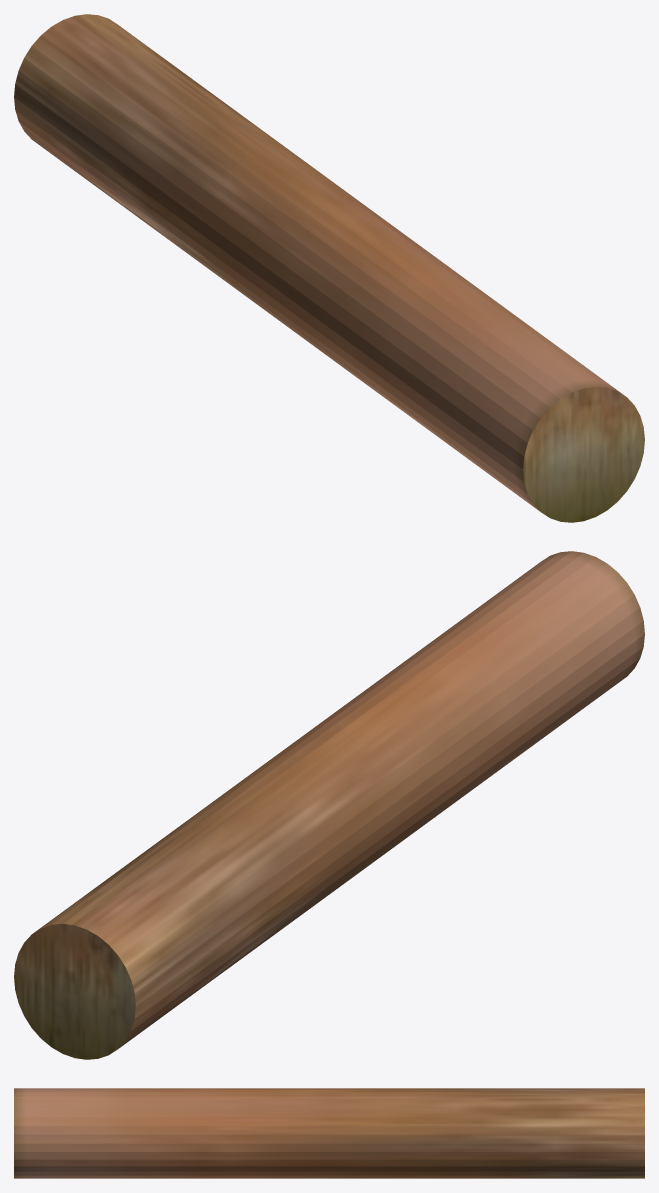
The model's file is Pipe3.fbx.
3 renders of one model, top to bottom at view 1: azimuth 30°, elevation 25°; view 2: azimuth 150°, elevation 25°; view 3: azimuth 270°, elevation 25°, orthographic. The views are drawn at different scales.
Parts seen in each view (by area): view 1: Cylinder; view 2: Cylinder; view 3: Cylinder.
Part boxes in pixels (x1,y1,x2,y2): Cylinder: (14, 14, 644, 522); Cylinder: (14, 551, 644, 1059); Cylinder: (14, 1088, 644, 1178).
Bounding box in the file's own units: 27.65 × 28.78 × 200.
1 material, 1 textured.
